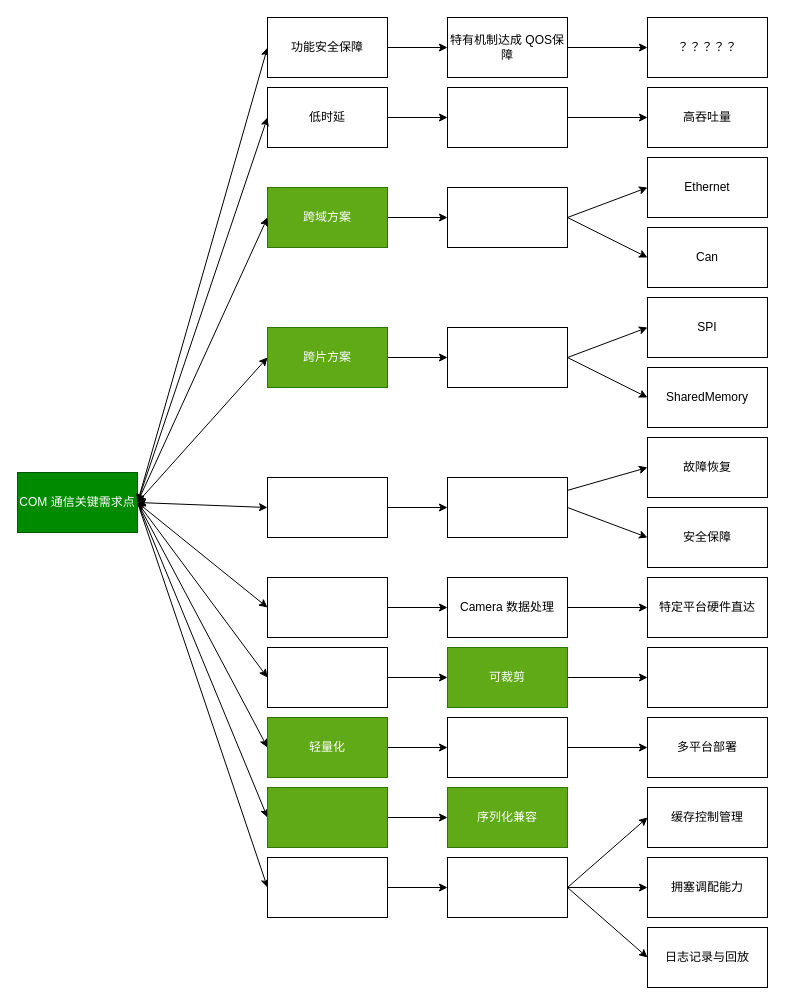
The diagram is 785 pixels wide and 1005 high, and some of its shapes have lost their labels. The box of each missing label's shape, as (x1, y1, x2, y2) in pixels:
E2E 机制: (266, 476, 388, 538)
协议兼容: (266, 786, 388, 848)
大块数据处理: (266, 576, 388, 638)
安全可控: (446, 476, 568, 538)
支持复杂车身网络: (446, 186, 568, 248)
支持异构方案 和 核间方案: (446, 326, 568, 388)
模块独立 可单独部署: (646, 646, 768, 708)
灵活性: (266, 646, 388, 708)
确定性 - 时序控制: (446, 856, 568, 918)
编译方便 容易移植: (446, 716, 568, 778)
调试纠错能力: (266, 856, 388, 918)
高性能: (446, 86, 568, 148)
